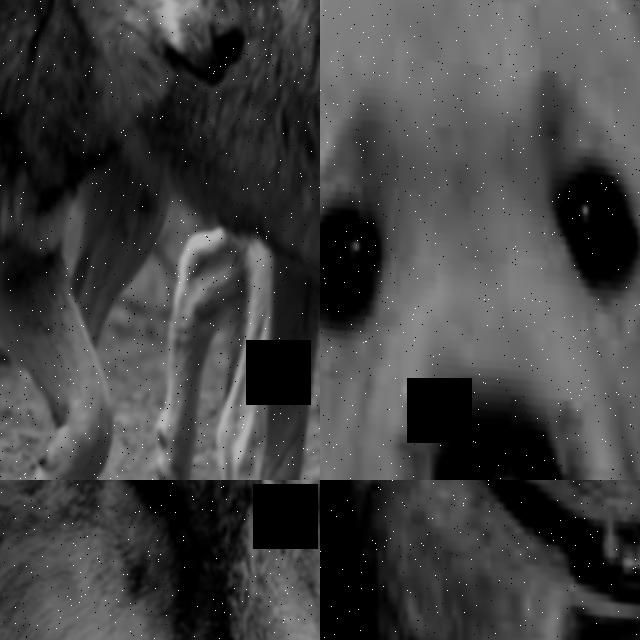dog: (320, 0, 640, 480), (571, 0, 640, 480)
wolf: (0, 0, 266, 480), (208, 0, 320, 480), (0, 480, 320, 640), (320, 480, 640, 640)
